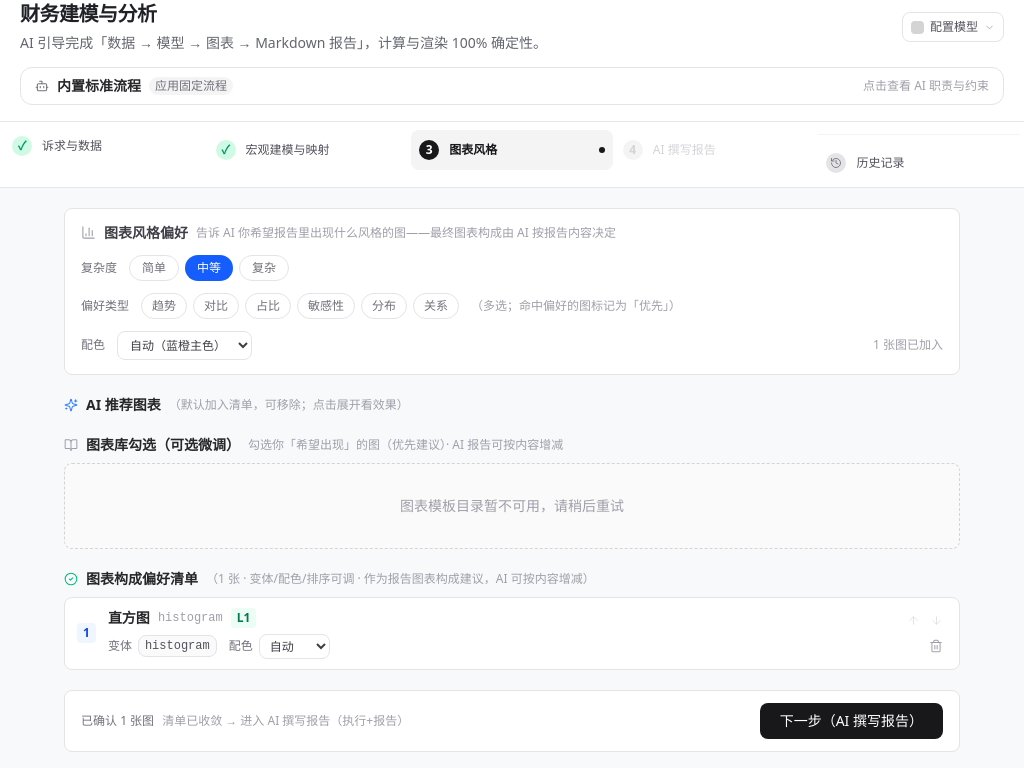
Test: rerunning financial models clears the previous report result
(page scrolled)
Click the button "下一步（AI 撰写报告）".
click(851, 721)  # box left=760, top=703, right=943, bottom=739
(page scrolled)
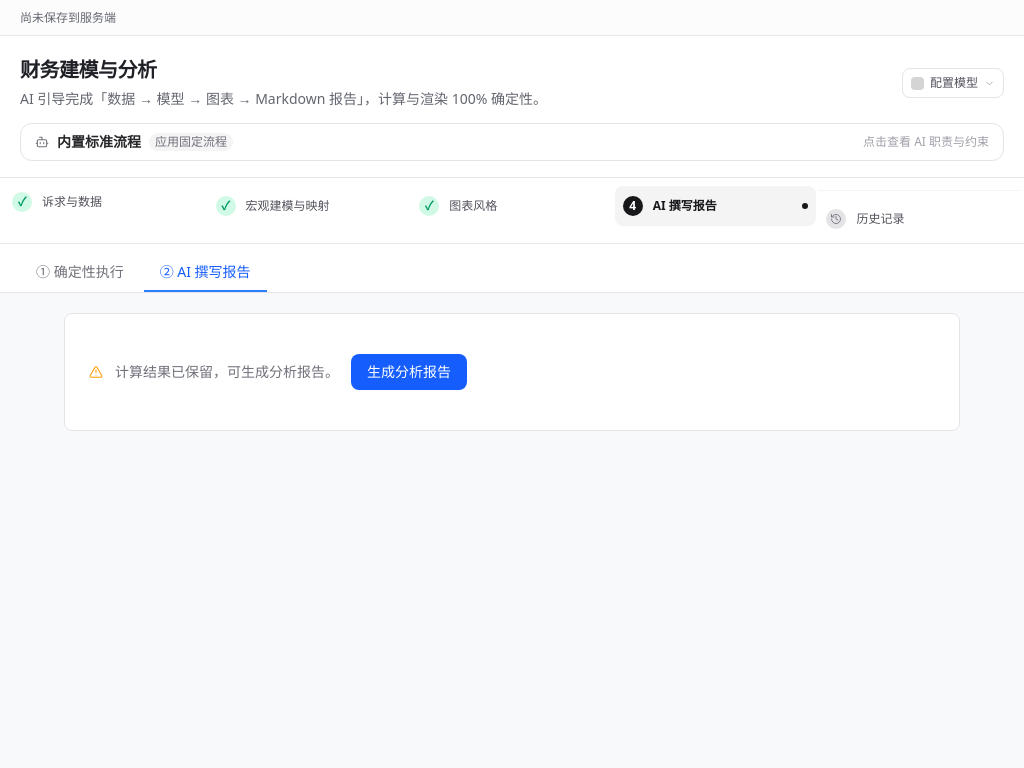
expect the button "生成分析报告" is shown: met, box left=351, top=354, right=467, bottom=390
